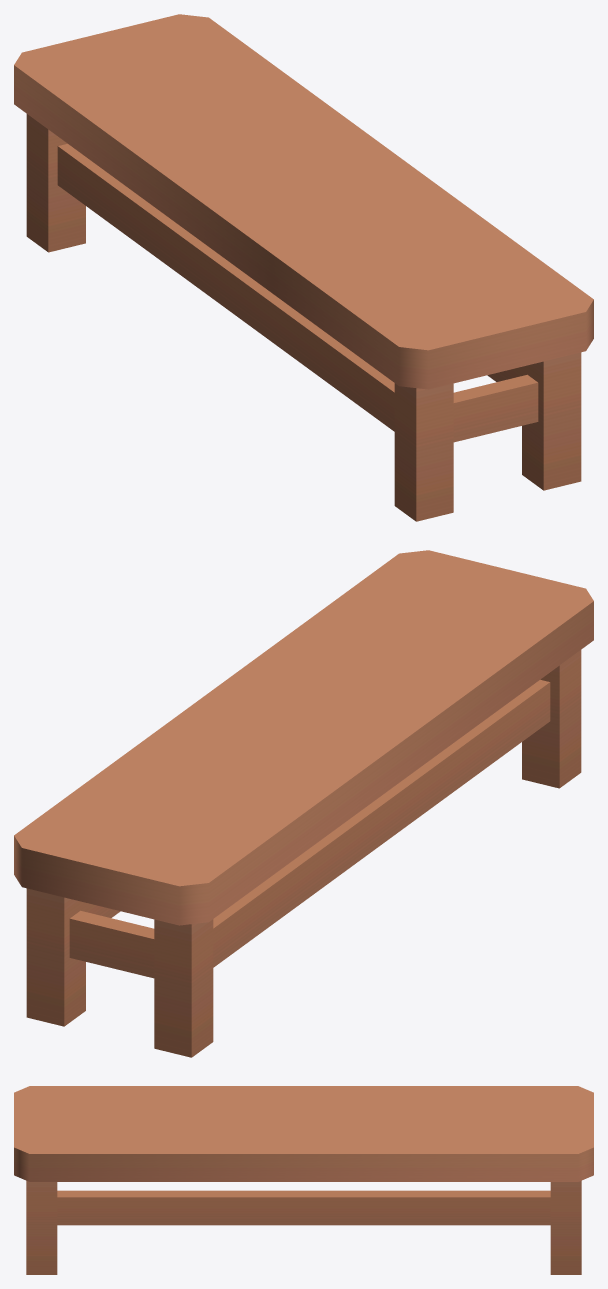
File: stall-bench.glb
3 renders of one model, top to bottom at view 1: azimuth 30°, elevation 25°; view 2: azimuth 150°, elevation 25°; view 3: azimuth 270°, elevation 25°, orthographic. The views are drawn at different scales.
Visible parts, largest first — view 1: stall-bench; view 2: stall-bench; view 3: stall-bench.
Part boxes in pixels (left/top/right/bottom): stall-bench: left=14, top=14, right=593, bottom=521; stall-bench: left=14, top=550, right=593, bottom=1057; stall-bench: left=14, top=1086, right=593, bottom=1274.
Bounding box in the file's own units: 0.26 × 0.2255 × 0.94.
Materials: 1 (1 with a texture image).
